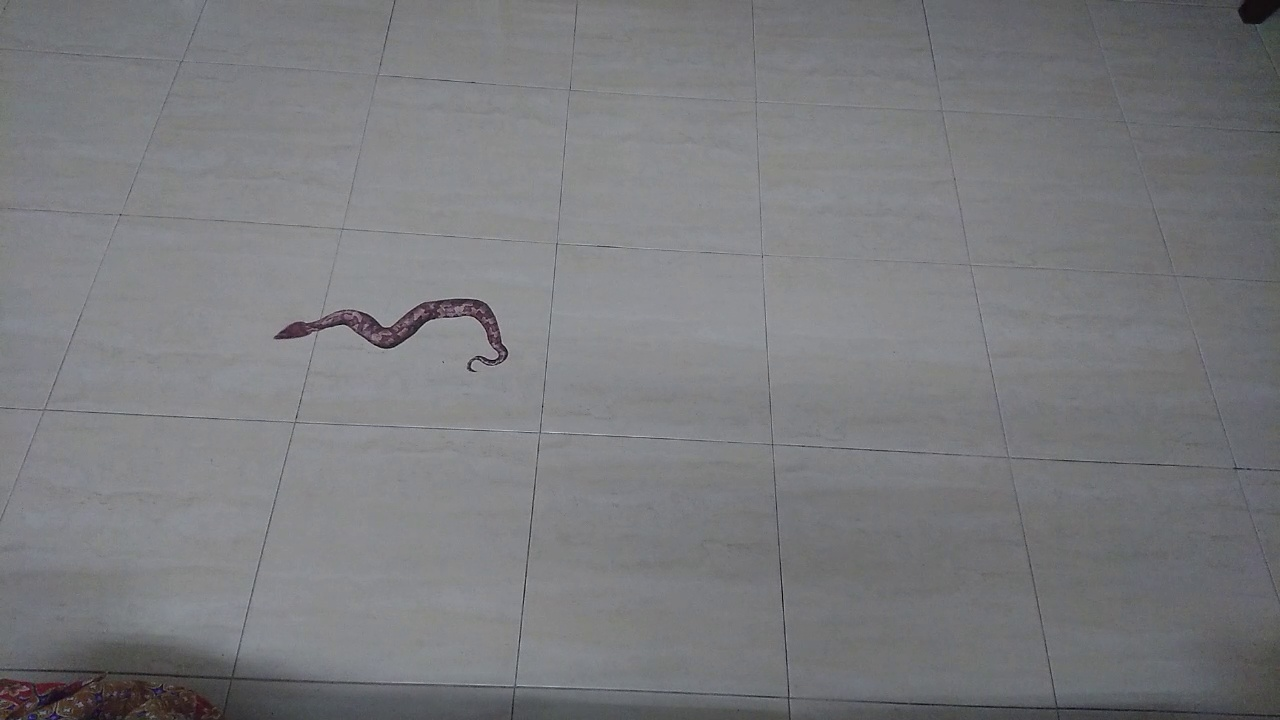snake: (257, 281, 522, 389)
